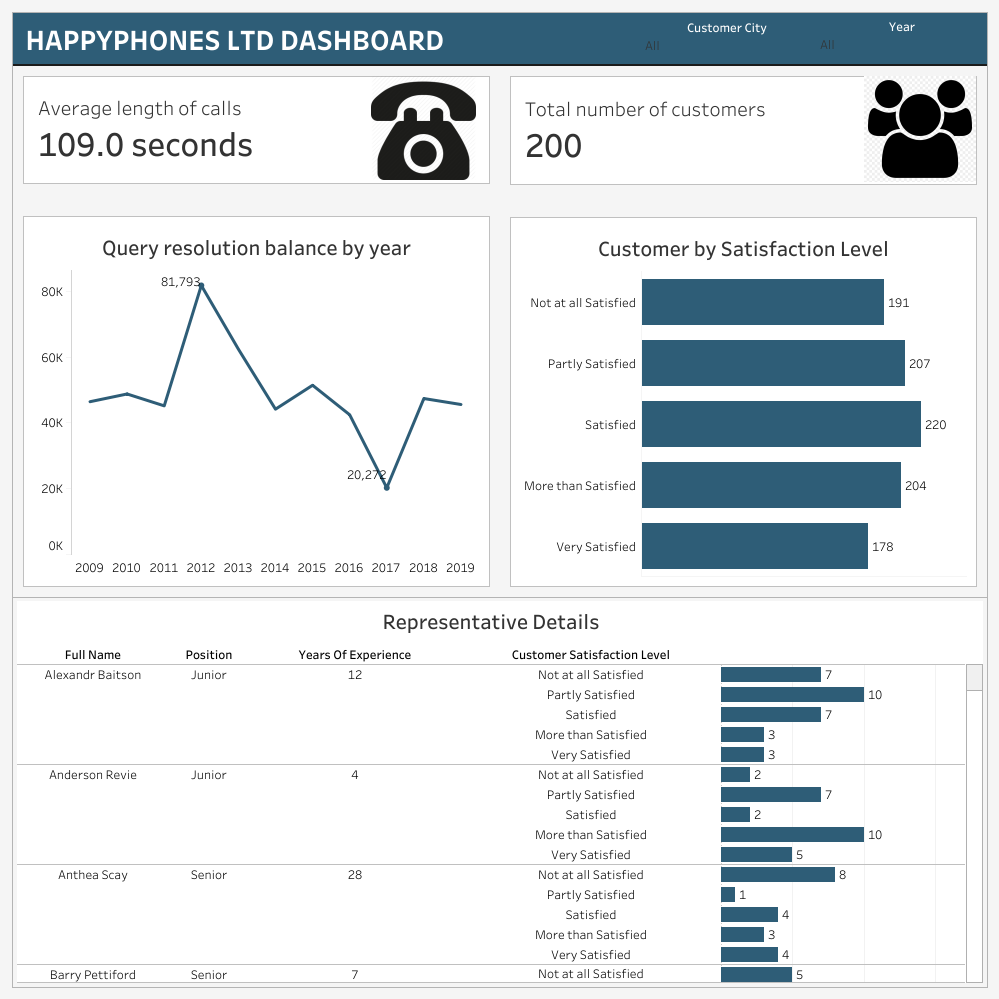

Layout of this report page (visuals, bound fields, positions):
{"tool":"tableau","page":{"name":"HAPPYPHONE DASHBOARD","canvas":[1000,1000],"ordinal":0},"visuals":[{"type":"text","box":[13,13,974,51]},{"type":"filter","title":"Representative Details","param":"[federated.141k5981roku4m1fxw7hv1am1o7r].[yr:Date Year:ok]","box":[818,16,168,52]},{"type":"filter","title":"Representative Details","param":"[federated.141k5981roku4m1fxw7hv1am1o7r].[none:Customer City:nk]","box":[643,17,168,49]},{"type":"blank","box":[13,64,974,2]},{"type":"image","param":"C:/Users/HP/Downloads/tele.png","box":[371,75,153,105]},{"type":"worksheet","title":"Average length of call","mark":"Automatic","box":[23,76,467,108]},{"type":"worksheet","title":"Total Number of customers","mark":"Automatic","box":[510,76,467,109]},{"type":"worksheet","title":"Query resolution balance by year","mark":"Automatic","rows":["Query Resolution Balance"],"cols":["Date Year"],"box":[23,216,467,371]},{"type":"worksheet","title":"Customers by satisfaction level","mark":"Automatic","rows":["Customer Satisfaction Level"],"cols":["Customer ID"],"box":[510,217,467,370]},{"type":"worksheet","title":"Representative Details","mark":"Automatic","rows":["Calculation_526358260783771648","Representative Position","Representative Years Of Experience","Customer Satisfaction Level"],"cols":["Customer ID"],"box":[13,597,974,390]},{"type":"blank","box":[13,597,974,1]}]}

Visuals, with their boxes in screenshot pixels (x1, y1, x2, y2), scaled from the page's 1000x1000 canvas onto the 999x999 screenshot:
text: bbox=[13, 13, 986, 64]
"Representative Details" filter: bbox=[817, 16, 985, 68]
"Representative Details" filter: bbox=[642, 17, 810, 66]
blank: bbox=[13, 64, 986, 66]
image: bbox=[371, 75, 523, 180]
"Average length of call" worksheet: bbox=[23, 76, 490, 184]
"Total Number of customers" worksheet: bbox=[509, 76, 976, 185]
"Query resolution balance by year" worksheet: bbox=[23, 216, 490, 586]
"Customers by satisfaction level" worksheet: bbox=[509, 217, 976, 586]
"Representative Details" worksheet: bbox=[13, 596, 986, 986]
blank: bbox=[13, 596, 986, 597]
